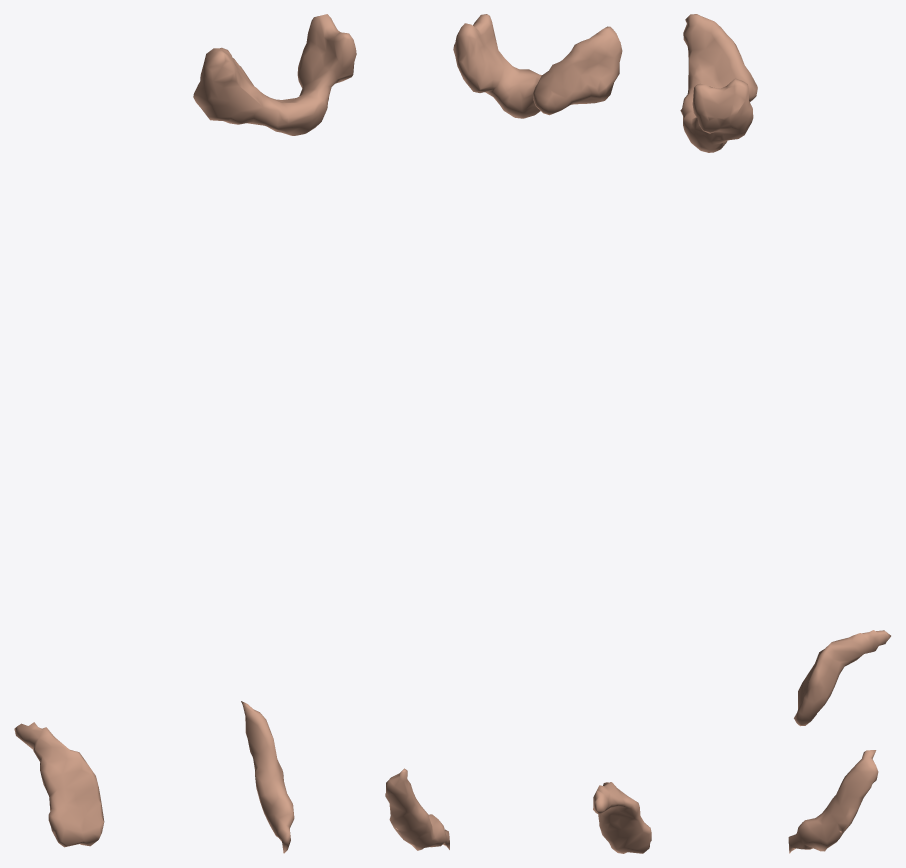
The model's file is tsd_s0196_older_adult_female.endocrine.LOD4.glb.
3 views of the same model, side by side, from view 1: azimuth 30°, elevation 25°; view 2: azimuth 150°, elevation 25°; view 3: azimuth 270°, elevation 25° (orthographic). The views are drawn at different scales.
Parts seen in each view (by area): view 1: TSD_S0196.OLDER_ADULT.FEMALE.ENDOCRINE.THYROID_GLAND, TSD_S0196.OLDER_ADULT.FEMALE.ENDOCRINE.ADRENAL_GLAND.R, TSD_S0196.OLDER_ADULT.FEMALE.ENDOCRINE.ADRENAL_GLAND.L; view 2: TSD_S0196.OLDER_ADULT.FEMALE.ENDOCRINE.THYROID_GLAND, TSD_S0196.OLDER_ADULT.FEMALE.ENDOCRINE.ADRENAL_GLAND.R, TSD_S0196.OLDER_ADULT.FEMALE.ENDOCRINE.ADRENAL_GLAND.L; view 3: TSD_S0196.OLDER_ADULT.FEMALE.ENDOCRINE.THYROID_GLAND, TSD_S0196.OLDER_ADULT.FEMALE.ENDOCRINE.ADRENAL_GLAND.L, TSD_S0196.OLDER_ADULT.FEMALE.ENDOCRINE.ADRENAL_GLAND.R.
Part boxes in pixels (<box>): TSD_S0196.OLDER_ADULT.FEMALE.ENDOCRINE.THYROID_GLAND: <box>193,14,356,135</box>; TSD_S0196.OLDER_ADULT.FEMALE.ENDOCRINE.ADRENAL_GLAND.R: <box>14,722,104,847</box>; TSD_S0196.OLDER_ADULT.FEMALE.ENDOCRINE.ADRENAL_GLAND.L: <box>241,701,294,853</box>; TSD_S0196.OLDER_ADULT.FEMALE.ENDOCRINE.THYROID_GLAND: <box>453,14,622,118</box>; TSD_S0196.OLDER_ADULT.FEMALE.ENDOCRINE.ADRENAL_GLAND.R: <box>593,782,651,853</box>; TSD_S0196.OLDER_ADULT.FEMALE.ENDOCRINE.ADRENAL_GLAND.L: <box>385,768,449,850</box>; TSD_S0196.OLDER_ADULT.FEMALE.ENDOCRINE.THYROID_GLAND: <box>680,14,757,152</box>; TSD_S0196.OLDER_ADULT.FEMALE.ENDOCRINE.ADRENAL_GLAND.L: <box>788,750,878,853</box>; TSD_S0196.OLDER_ADULT.FEMALE.ENDOCRINE.ADRENAL_GLAND.R: <box>794,630,890,726</box>.
Size of the model in its own units: 0.0811 by 0.2621 by 0.0636.
